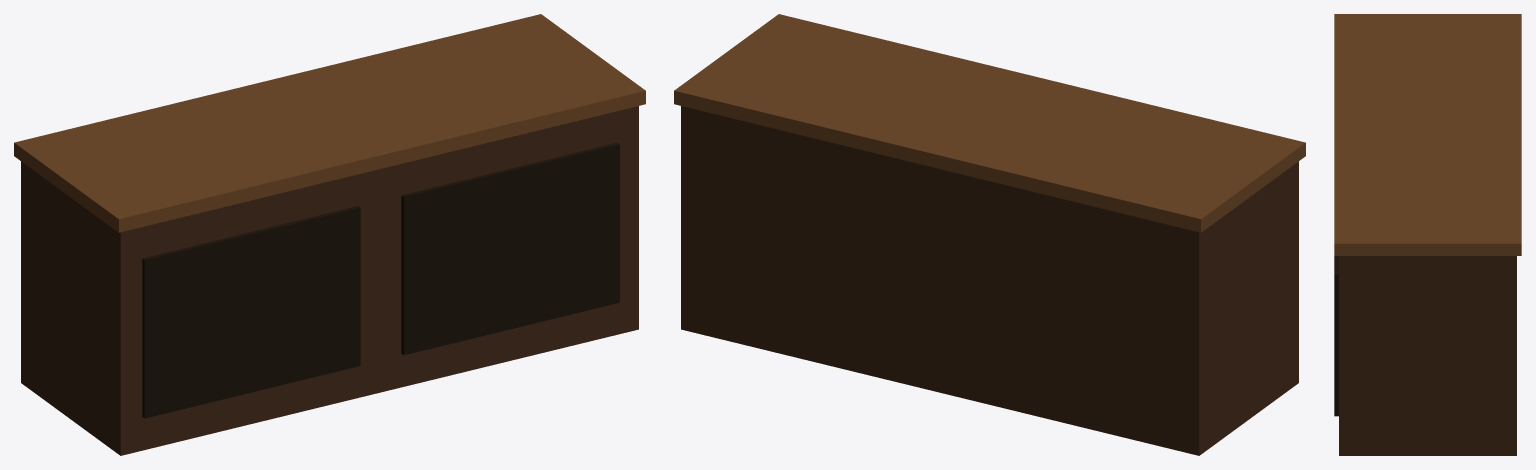
Rendered from tv-stand.glb.
The picture shows the model from 3 angles, left to right: view 1: azimuth 30°, elevation 25°; view 2: azimuth 150°, elevation 25°; view 3: azimuth 270°, elevation 25°; orthographic projection. The views are drawn at different scales.
Visible parts, largest first — view 1: tv-stand; view 2: tv-stand; view 3: tv-stand.
Boxes of the visible parts, bbox=[...] form: tv-stand: bbox=[14, 14, 645, 455]; tv-stand: bbox=[674, 14, 1305, 455]; tv-stand: bbox=[1334, 14, 1521, 455].
Bounding box in the file's own units: 1.22 × 0.53 × 0.42.
